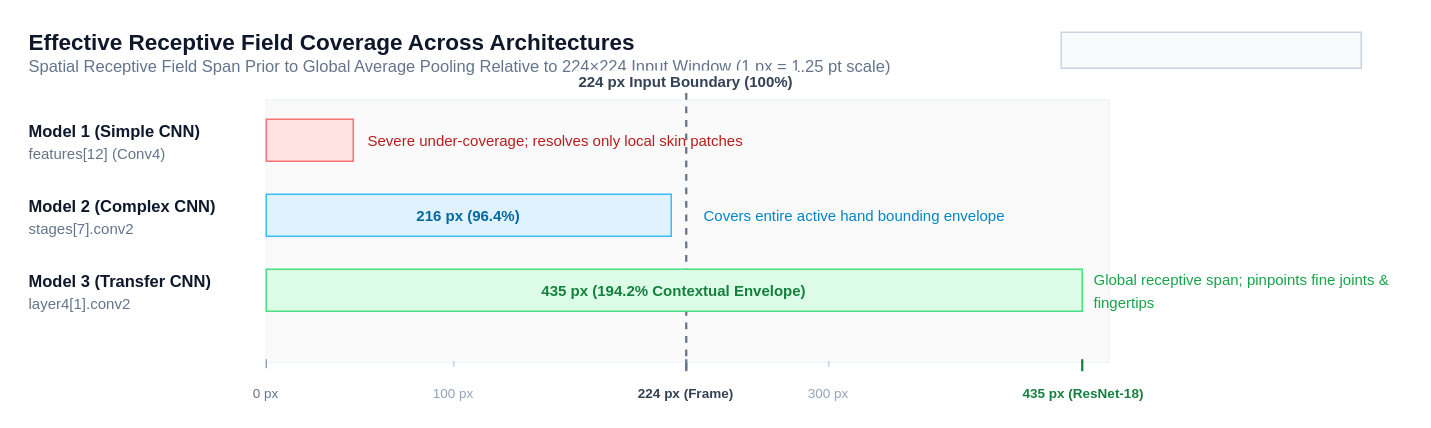
Some shapes in this 1431 by 428 pixel diagram are drawn without their labels. The shapes that lost their labels are listed below. From the top down, each one's centre as x and y in pixels, then its label:
At point 1210,49: "Scale: 1 px RF = 1.25 canvas units".
At point 309,139: "46 px (20.5%)".
